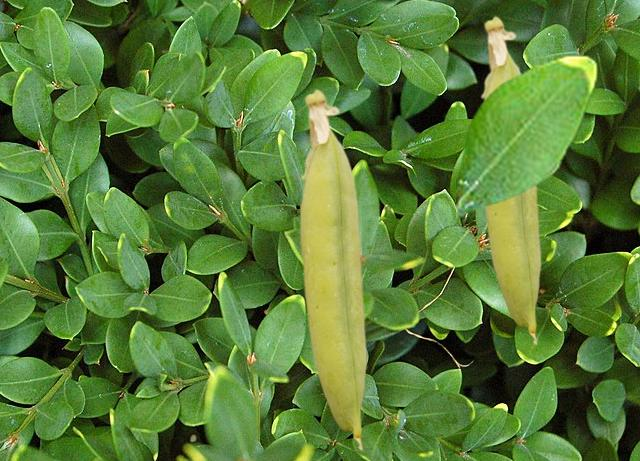pea: (299, 88, 367, 450), (480, 15, 541, 344)
